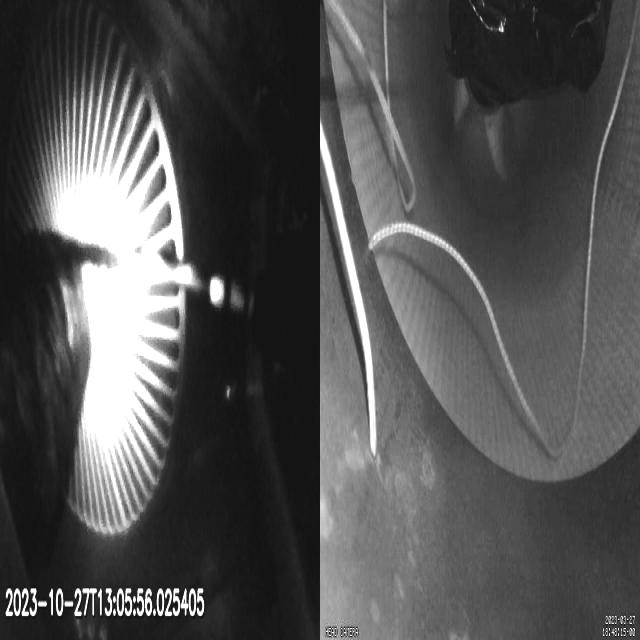white-dots: (210, 279, 255, 313)
